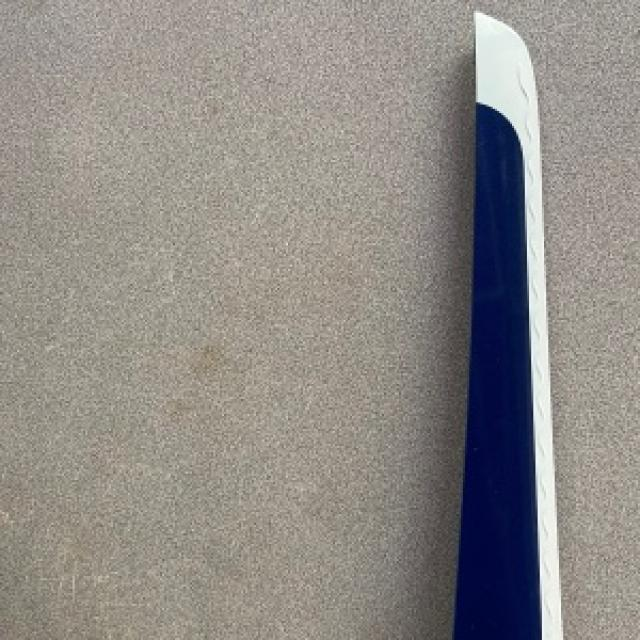healthy: (452, 11, 561, 638)
